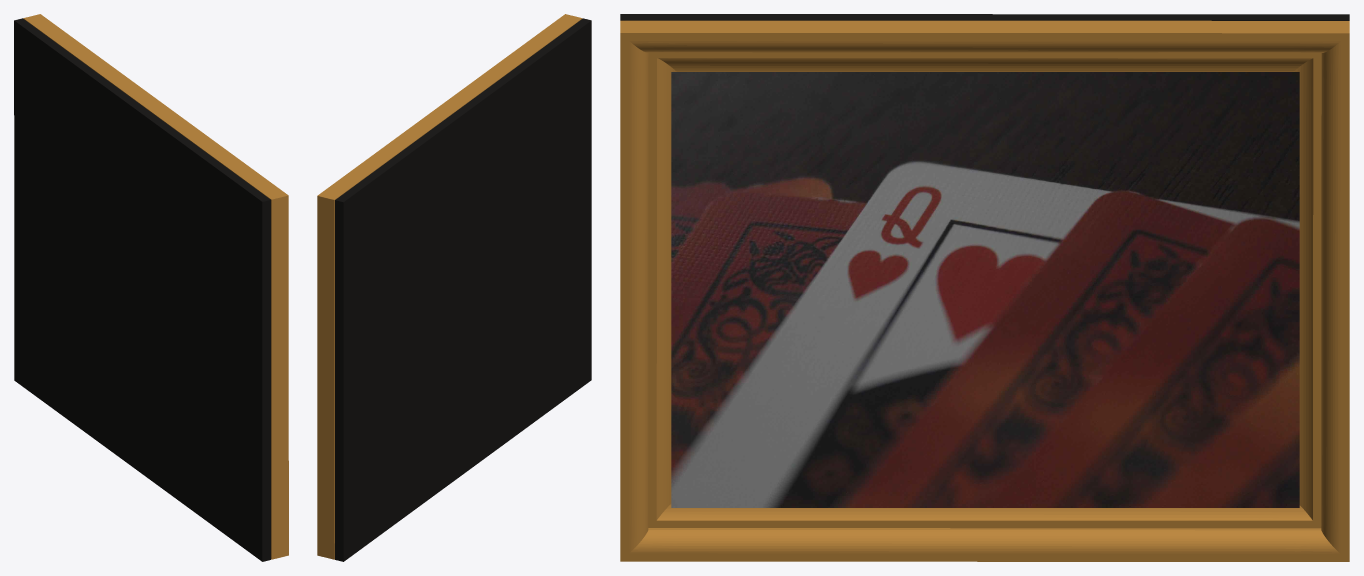
3 views of the same model, side by side, from view 1: azimuth 30°, elevation 25°; view 2: azimuth 150°, elevation 25°; view 3: azimuth 270°, elevation 25° (orthographic). The views are drawn at different scales.
Parts seen in each view (by area): view 1: frame.001_3.001, back panel.001_2.001; view 2: frame.001_3.001, back panel.001_2.001; view 3: frame.001_3.001, back panel.001_2.001.
Part boxes in pixels (left/top/right/bottom): frame.001_3.001: left=14, top=18, right=270, bottom=561; back panel.001_2.001: left=23, top=14, right=288, bottom=559; frame.001_3.001: left=335, top=18, right=591, bottom=561; back panel.001_2.001: left=317, top=14, right=582, bottom=559; frame.001_3.001: left=620, top=14, right=1349, bottom=507; back panel.001_2.001: left=620, top=20, right=1349, bottom=561.
Bounding box in the file's own units: 1.05 × 13.7 × 17.12.
Materials: 3 (1 with a texture image).
